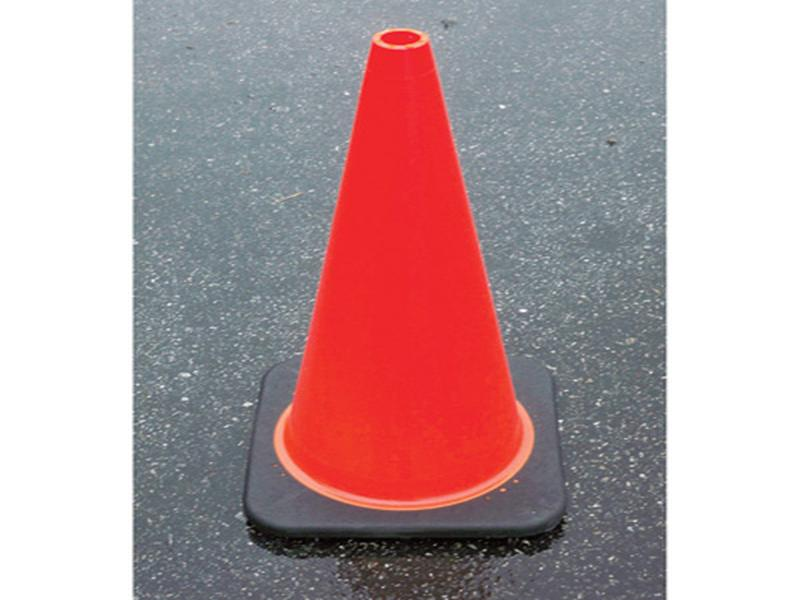Cone1: (243, 29, 566, 538)
